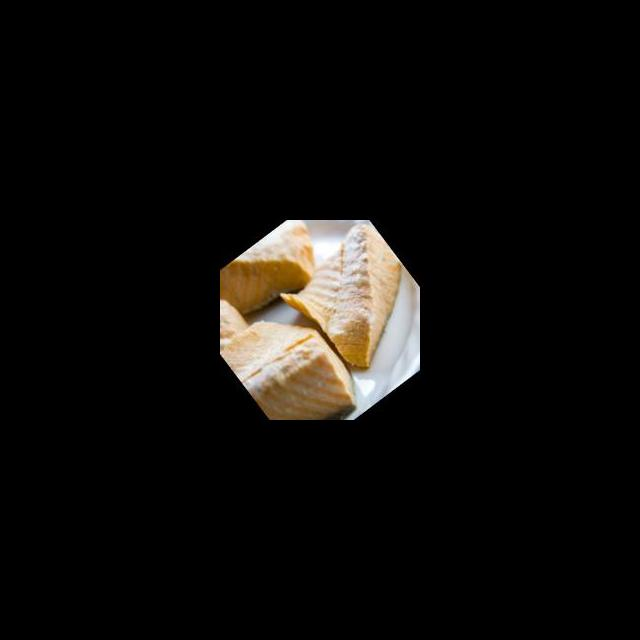ca hoi: (268, 220, 420, 388), (220, 286, 373, 420), (220, 220, 339, 344), (220, 280, 252, 352)
